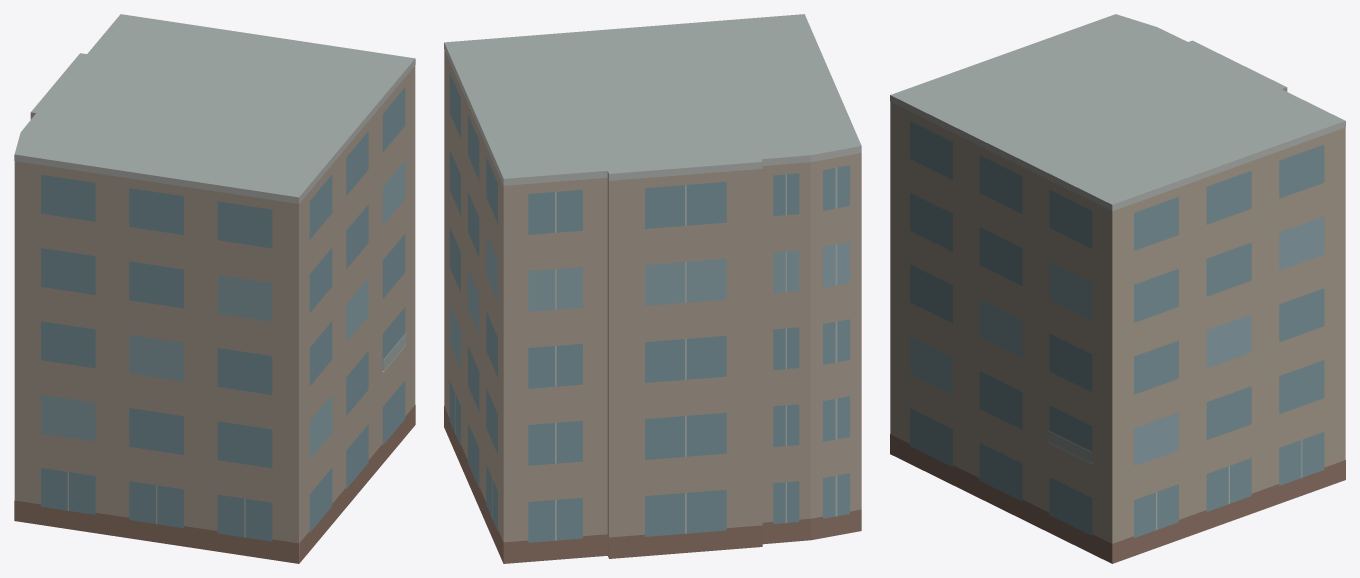
File: survey-upis-32690644.glb
The picture shows the model from 3 angles, left to right: view 1: azimuth 30°, elevation 25°; view 2: azimuth 150°, elevation 25°; view 3: azimuth 270°, elevation 25°; orthographic projection. The views are drawn at different scales.
Parts seen in each view (by area): view 1: survey-upis-32690644.tmp; view 2: survey-upis-32690644.tmp; view 3: survey-upis-32690644.tmp.
Part boxes in pixels (x1,y1,x2,y2): survey-upis-32690644.tmp: (14, 14, 415, 563); survey-upis-32690644.tmp: (444, 14, 861, 563); survey-upis-32690644.tmp: (890, 14, 1345, 563).
Size of the model in its own units: 15.51 by 13.6 by 15.65.
